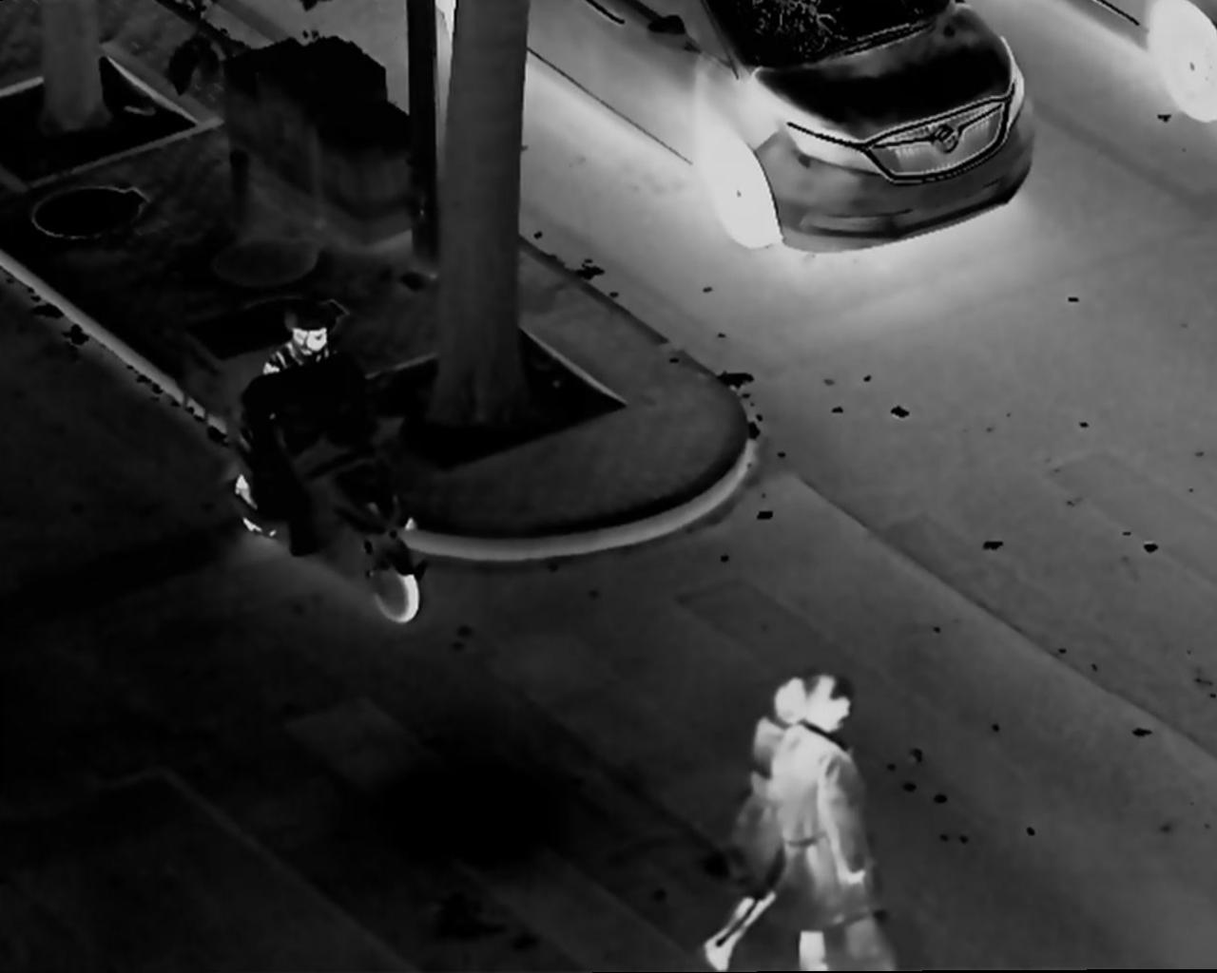person: (777, 672, 903, 973), (711, 670, 808, 951), (247, 305, 344, 546)
